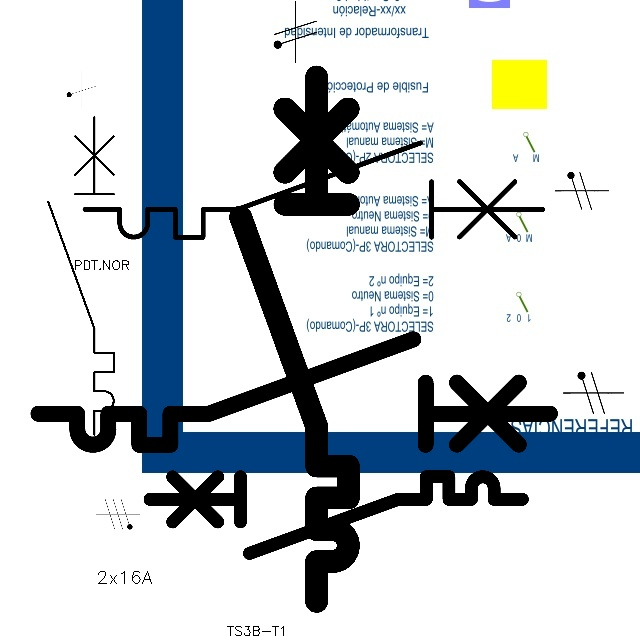interruptor_termomagnetico: (227, 63, 362, 615), (25, 326, 563, 458), (73, 131, 554, 249), (140, 467, 532, 563), (40, 108, 122, 442)
